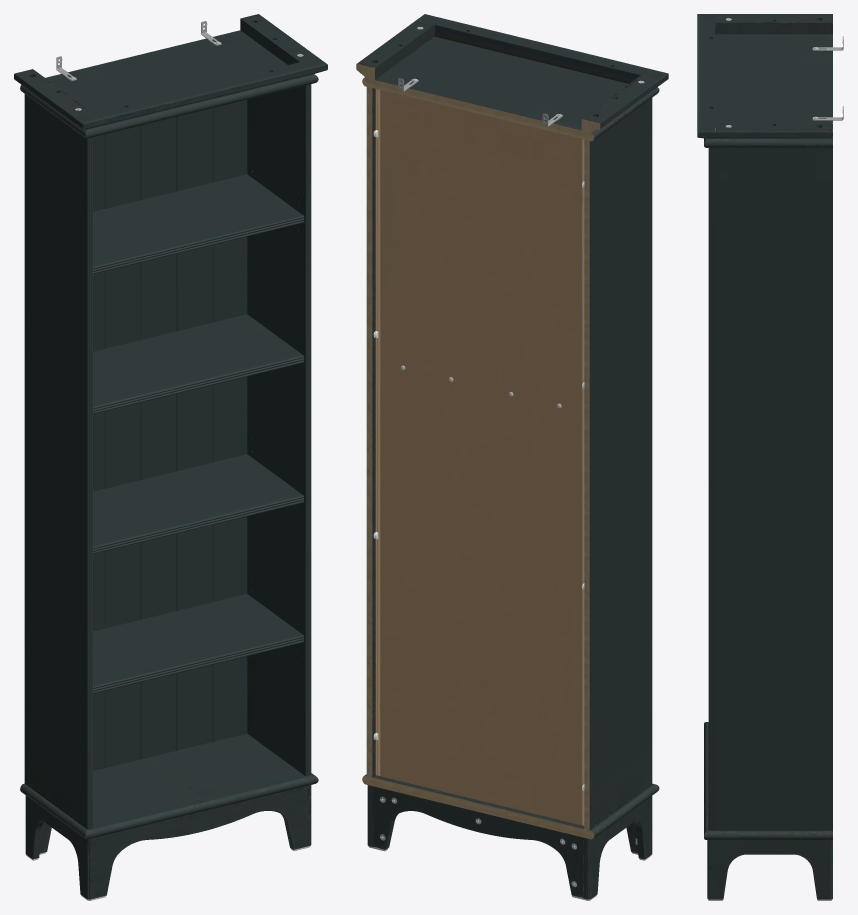
The picture shows the model from 3 angles, left to right: view 1: azimuth 30°, elevation 25°; view 2: azimuth 150°, elevation 25°; view 3: azimuth 270°, elevation 25°; orthographic projection.
Parts seen in each view (by area): view 1: Mesh_0; view 2: Mesh_0; view 3: Mesh_0.
Part boxes in pixels (box(x1,y1,x2,y2)): Mesh_0: box(14, 14, 327, 900); Mesh_0: box(356, 14, 668, 900); Mesh_0: box(697, 14, 843, 900).
Size of the model in its own units: 0.6499 by 1.99 by 0.3399.
1 material, 1 textured.
